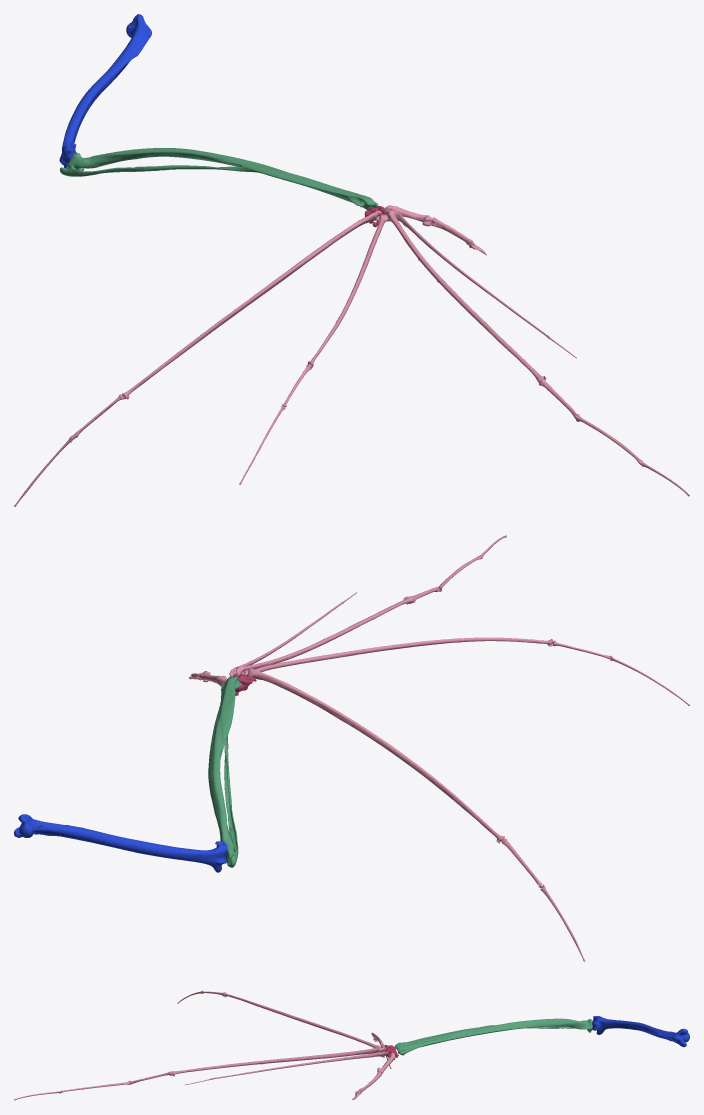
File: Bat_Forearm_Color.glb
3 renders of one model, top to bottom at view 1: azimuth 30°, elevation 25°; view 2: azimuth 150°, elevation 25°; view 3: azimuth 270°, elevation 25°, orthographic. The views are drawn at different scales.
Visible parts, largest first — view 1: Vampire-bar-UF-mamm-9818-000476294; view 2: Vampire-bar-UF-mamm-9818-000476294; view 3: Vampire-bar-UF-mamm-9818-000476294.
Boxes of the visible parts, <box> form: Vampire-bar-UF-mamm-9818-000476294: <box>14,14,689,506</box>; Vampire-bar-UF-mamm-9818-000476294: <box>14,535,689,961</box>; Vampire-bar-UF-mamm-9818-000476294: <box>14,990,689,1100</box>.
Bounding box in the file's own units: 1.3 × 0.6614 × 2.7.
